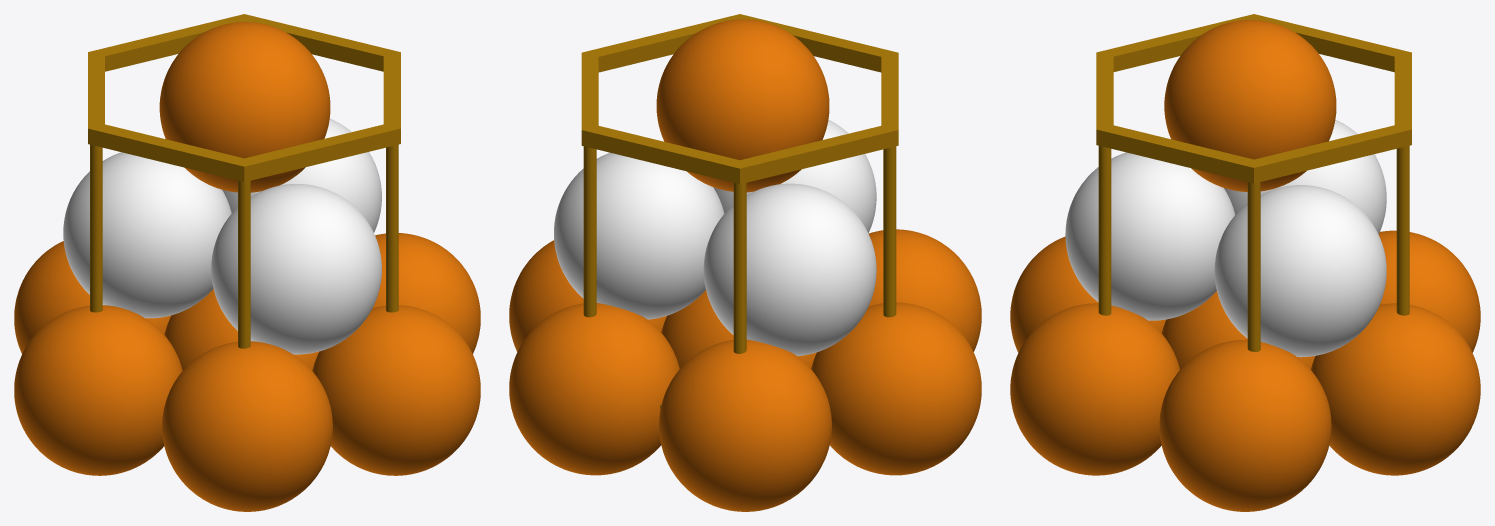
Rendered from Packing_Hex.glb.
The picture shows the model from 3 angles, left to right: view 1: azimuth 30°, elevation 25°; view 2: azimuth 150°, elevation 25°; view 3: azimuth 270°, elevation 25°; orthographic projection.
Parts seen in each view (by area): view 1: Packing_Base, Packing_Mid, Packing_Hex, Packing_Top; view 2: Packing_Base, Packing_Mid, Packing_Hex, Packing_Top; view 3: Packing_Base, Packing_Mid, Packing_Hex, Packing_Top.
Boxes of the visible parts, left/top/right/bottom form: Packing_Base: left=14, top=233, right=480, bottom=511; Packing_Mid: left=63, top=118, right=381, bottom=354; Packing_Hex: left=88, top=14, right=400, bottom=348; Packing_Top: left=159, top=22, right=330, bottom=192; Packing_Base: left=509, top=229, right=981, bottom=511; Packing_Mid: left=554, top=119, right=876, bottom=356; Packing_Hex: left=581, top=14, right=898, bottom=409; Packing_Top: left=656, top=19, right=829, bottom=192; Packing_Base: left=1010, top=230, right=1480, bottom=511; Packing_Mid: left=1065, top=119, right=1386, bottom=357; Packing_Hex: left=1096, top=14, right=1411, bottom=351; Packing_Top: left=1164, top=20, right=1336, bottom=191.
Bounding box in the file's own units: 1.2 × 1.03 × 1.09.
